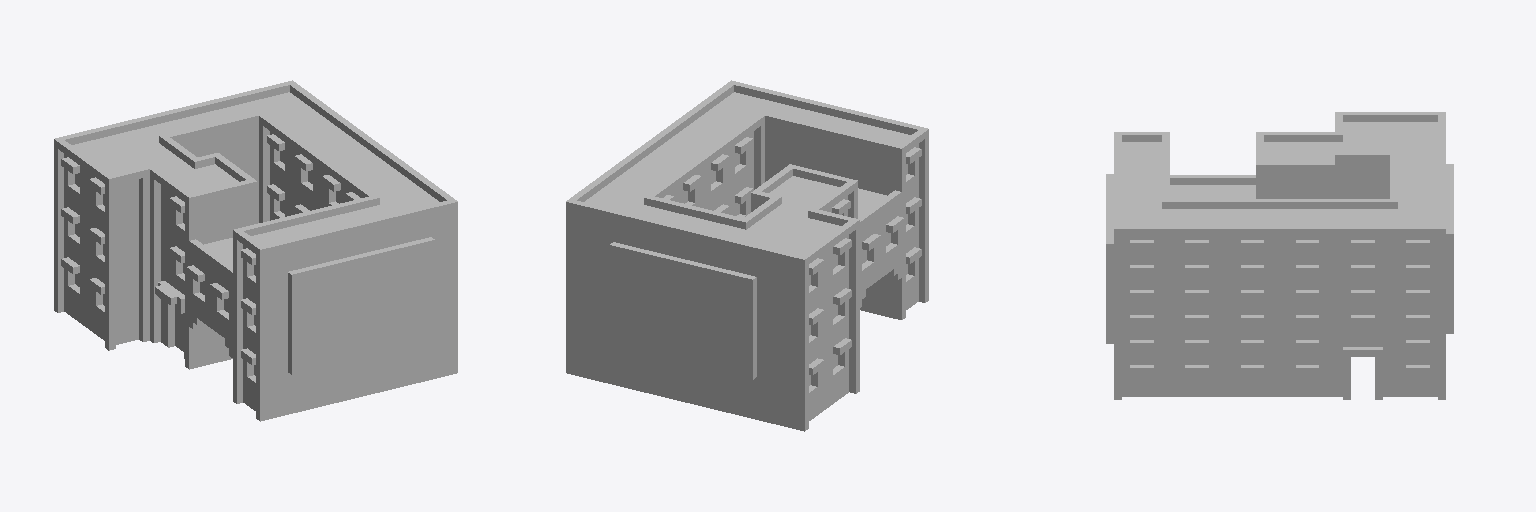
File: house4.obj
The picture shows the model from 3 angles: view 1: azimuth 30°, elevation 25°; view 2: azimuth 150°, elevation 25°; view 3: azimuth 270°, elevation 25°; orthographic projection.
Parts seen in each view (by area): view 1: object 1; view 2: object 1; view 3: object 1.
Part boxes in pixels (x1,y1,x2,y2): object 1: (54, 80, 457, 421); object 1: (566, 80, 928, 431); object 1: (1106, 112, 1453, 399).
Size of the model in its own units: 3.5 by 2.4 by 4.4.